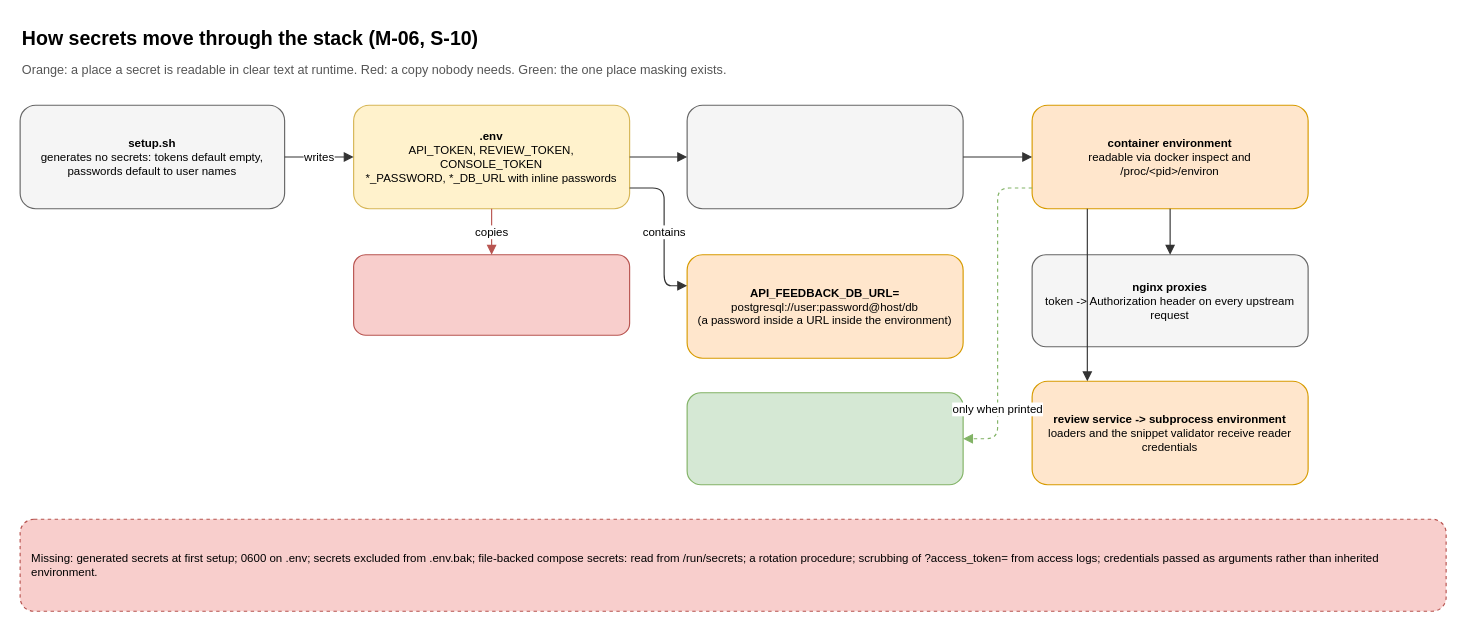
Some shapes in this 1466 by 631 pixel diagram are drawn without their labels. The centre of each missing label's shape, as x and y in pixels:
".env.bak full copy on every setup.sh run (setup.sh:376)" goes at point 491,294.
"_redacted() for readiness and logs masks URL passwords; defined twice" goes at point 824,438.
"docker compose environment: blocks (no secrets:)" goes at point 824,156.
